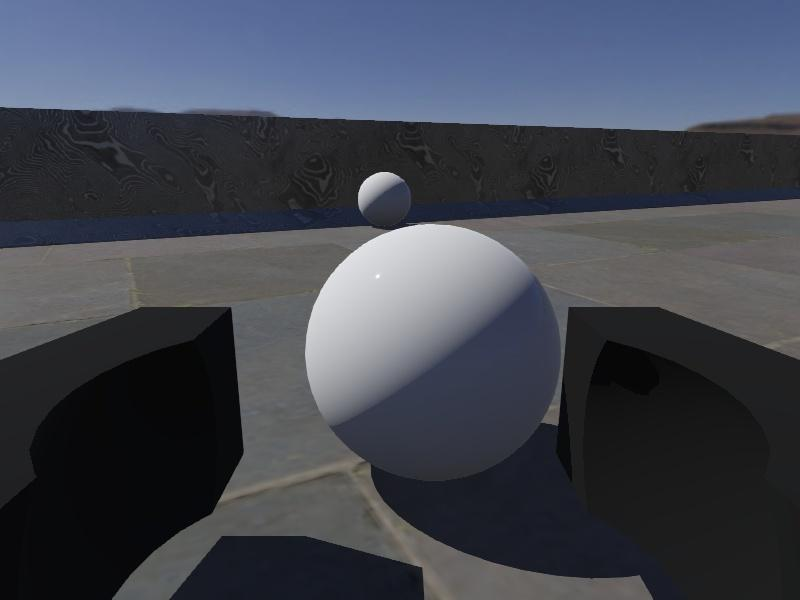white ball: (304, 223, 562, 483), (357, 171, 412, 228)
